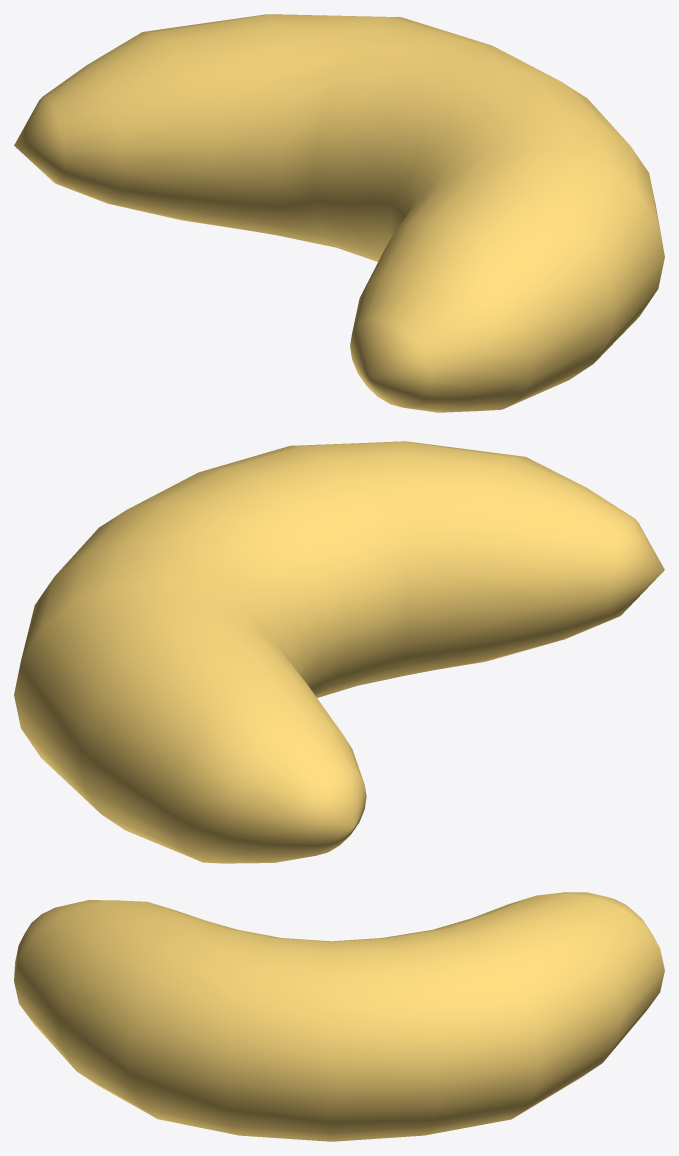
The model's file is fireplace_crescent_pillow_with_normal_map.fbx.
The picture shows the model from 3 angles, top to bottom: view 1: azimuth 30°, elevation 25°; view 2: azimuth 150°, elevation 25°; view 3: azimuth 270°, elevation 25°; orthographic projection. The views are drawn at different scales.
Visible parts, largest first — view 1: crescent_lowpoly; view 2: crescent_lowpoly; view 3: crescent_lowpoly.
Part boxes in pixels (x1,y1,x2,y2): crescent_lowpoly: [14, 14, 664, 412]; crescent_lowpoly: [14, 441, 664, 863]; crescent_lowpoly: [14, 892, 664, 1141].
Size of the model in its own units: 79.02 by 122 by 36.28.
